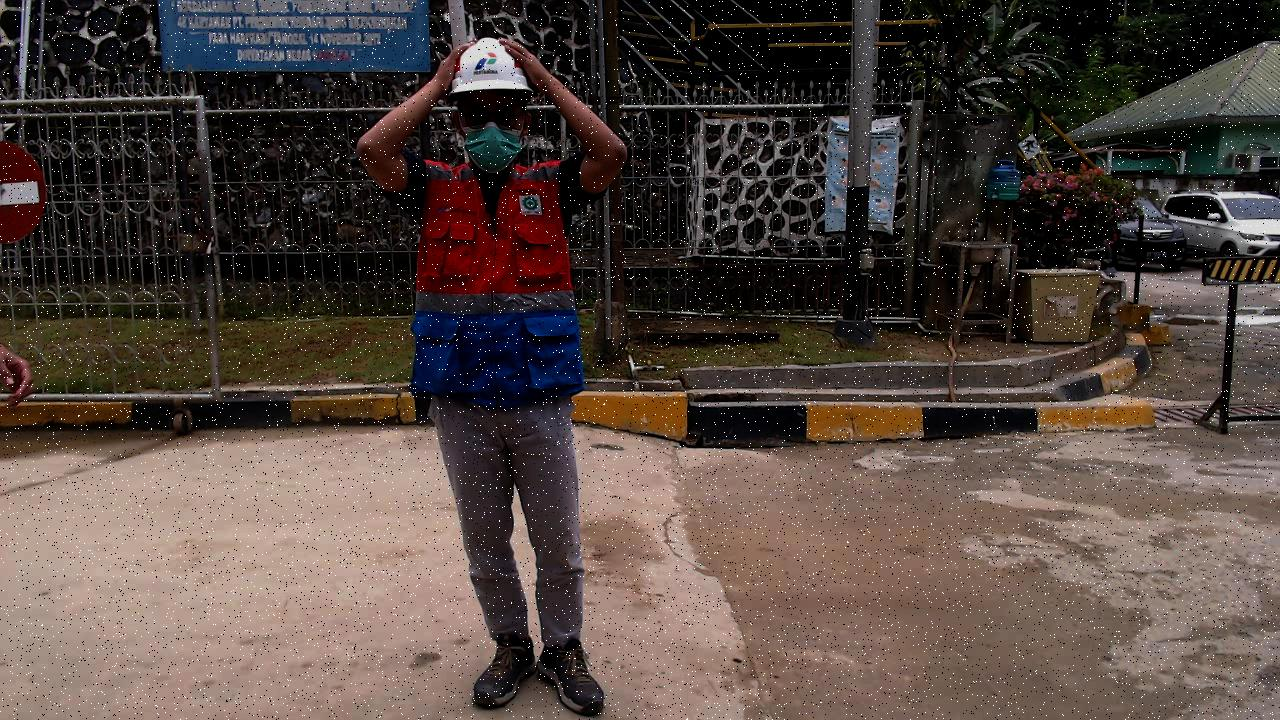helmet: (444, 32, 539, 101)
mask: (457, 123, 527, 170)
safety-shoes: (535, 631, 617, 717), (471, 627, 535, 708)
